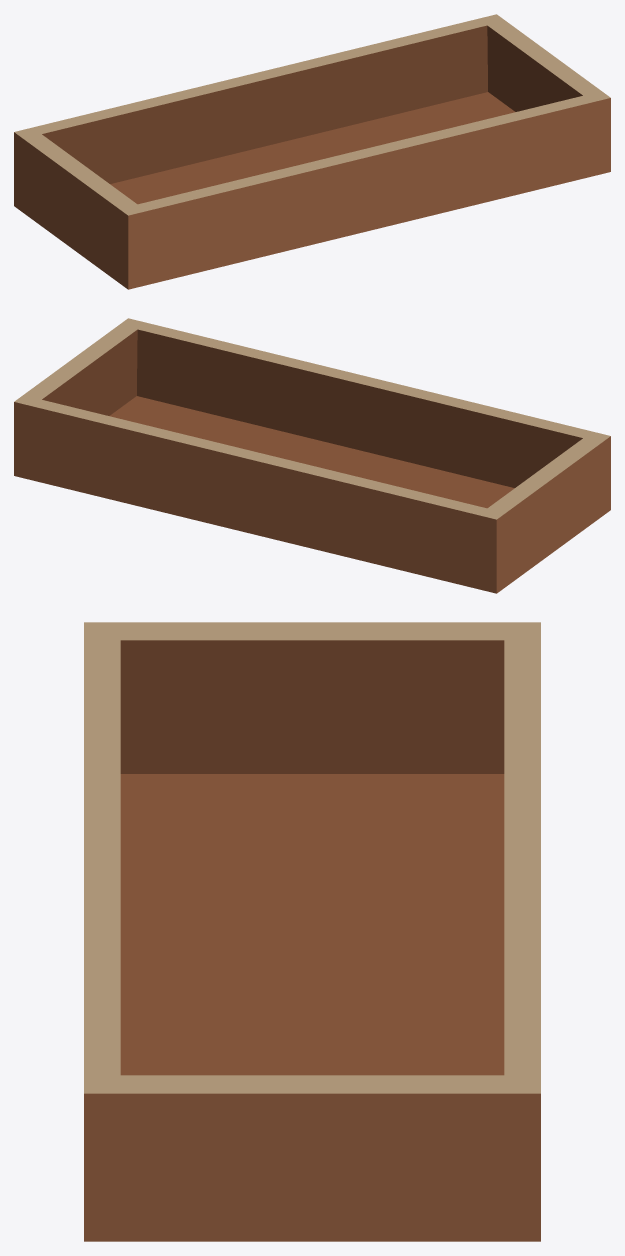
The model's file is TB_Prop_Box_H.FBX.
3 renders of one model, top to bottom at view 1: azimuth 30°, elevation 25°; view 2: azimuth 150°, elevation 25°; view 3: azimuth 270°, elevation 25°, orthographic. The views are drawn at different scales.
Visible parts, largest first — view 1: TB_Prop_Box_H; view 2: TB_Prop_Box_H; view 3: TB_Prop_Box_H.
Part boxes in pixels (x1,y1,x2,y2): TB_Prop_Box_H: (14,14,610,289); TB_Prop_Box_H: (14,318,610,593); TB_Prop_Box_H: (84,622,540,1241).
Bounding box in the file's own units: 1.7 × 0.249 × 0.696.
